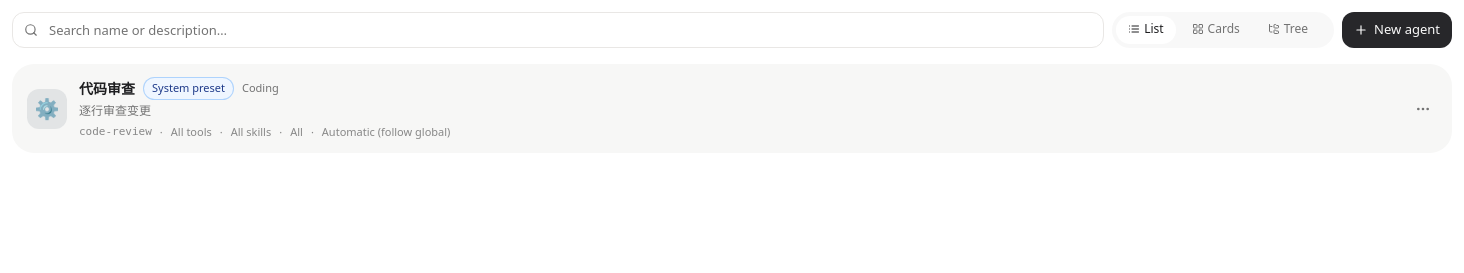
Test: agents 编辑提示词 › system 档案不给删除入口 —— 后端对它一律返 409
Expected: the text "代码审查" is shown, [79, 78, 135, 99]
Click the button named "More actions" at (1423, 108), box [1409, 94, 1437, 122]
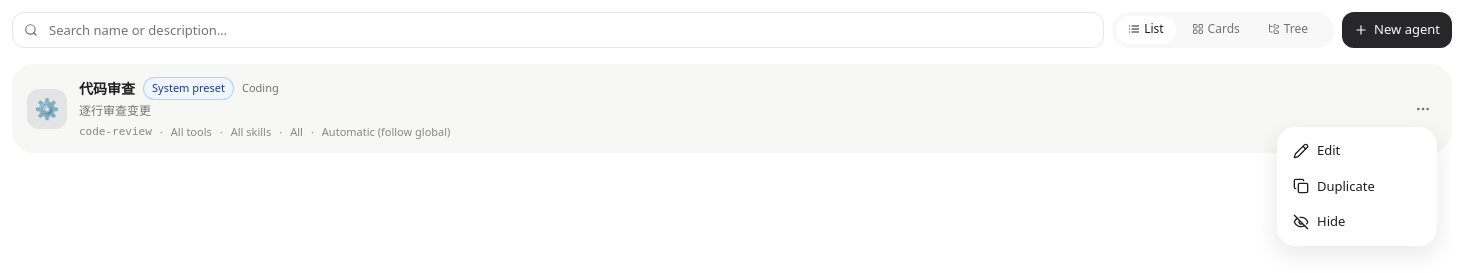
Now the menu item "Edit" is shown, box [1293, 141, 1340, 159]
